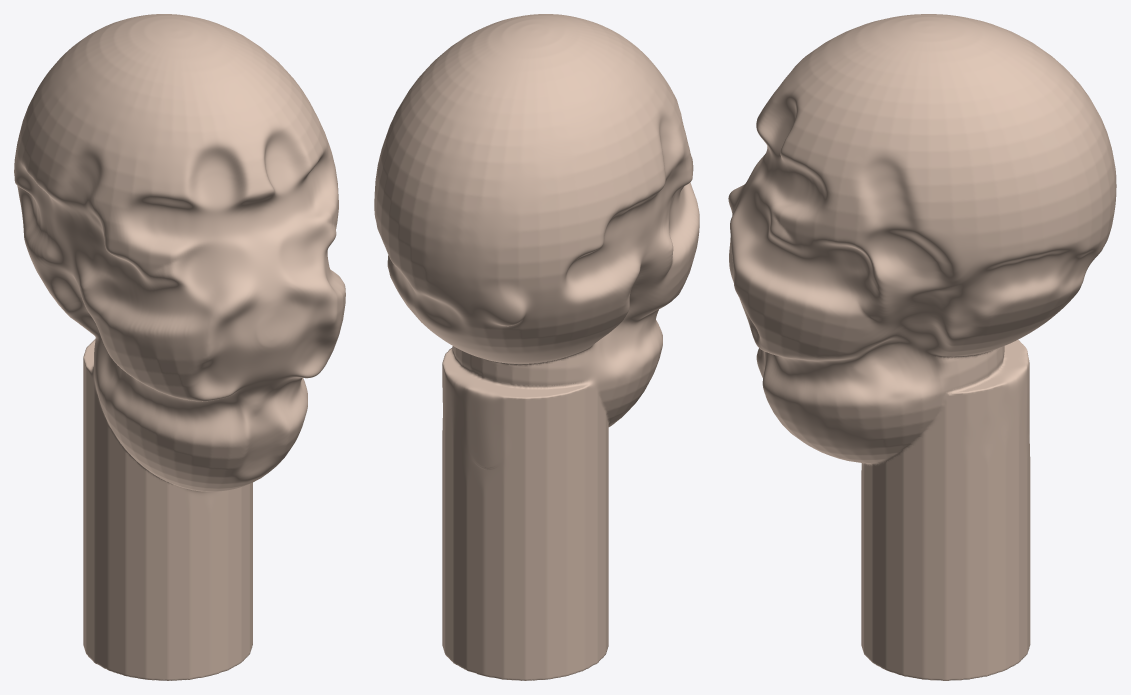
Rendered from edmund_v4_head.glb.
3 views of the same model, side by side, from view 1: azimuth 30°, elevation 25°; view 2: azimuth 150°, elevation 25°; view 3: azimuth 270°, elevation 25° (orthographic).
Parts seen in each view (by area): view 1: TLS_Edmund_Head_v4; view 2: TLS_Edmund_Head_v4; view 3: TLS_Edmund_Head_v4.
Part boxes in pixels (x1=…): TLS_Edmund_Head_v4: x1=14, y1=14, x2=345, y2=680; TLS_Edmund_Head_v4: x1=374, y1=14, x2=699, y2=680; TLS_Edmund_Head_v4: x1=728, y1=14, x2=1116, y2=680.
Bounding box in the file's own units: 0.1703 × 0.3875 × 0.2202.
